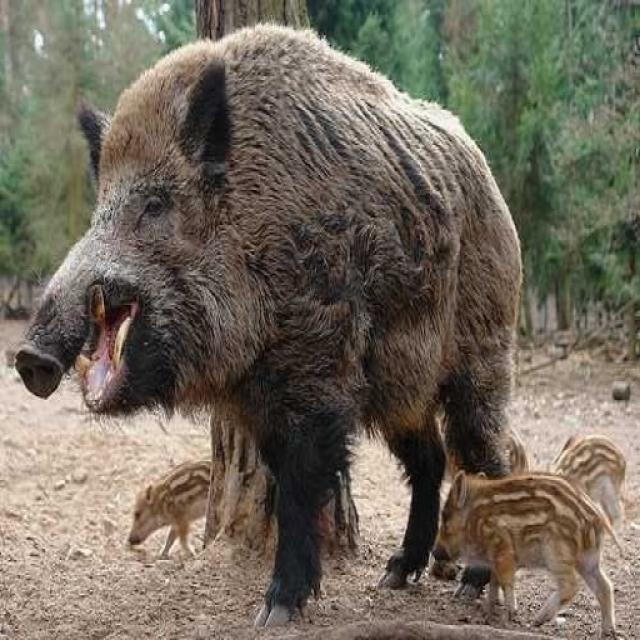pig: (19, 14, 544, 616), (431, 450, 619, 630)
